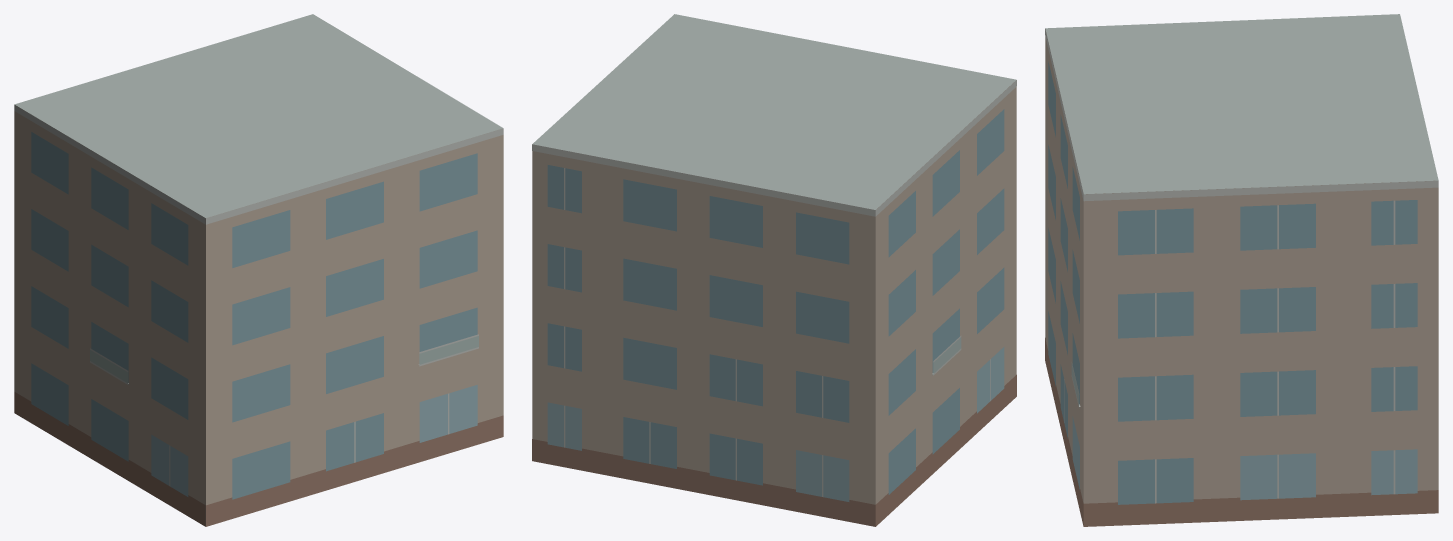
Rendered from survey-upis-32665711.glb.
3 renders of one model, left to right at view 1: azimuth 30°, elevation 25°; view 2: azimuth 150°, elevation 25°; view 3: azimuth 270°, elevation 25°, orthographic. The views are drawn at different scales.
Visible parts, largest first — view 1: survey-upis-32665711.tmp; view 2: survey-upis-32665711.tmp; view 3: survey-upis-32665711.tmp.
Boxes of the visible parts, <box> form: survey-upis-32665711.tmp: <box>14,14,503,526</box>; survey-upis-32665711.tmp: <box>532,14,1016,526</box>; survey-upis-32665711.tmp: <box>1045,14,1438,526</box>.
Bounding box in the file's own units: 13.49 × 11.6 × 12.44.
